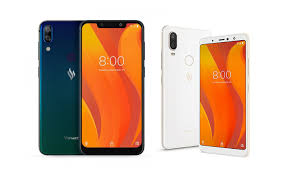vsmart: (79, 18, 146, 157), (196, 30, 250, 158), (38, 17, 83, 155), (160, 18, 198, 149)
